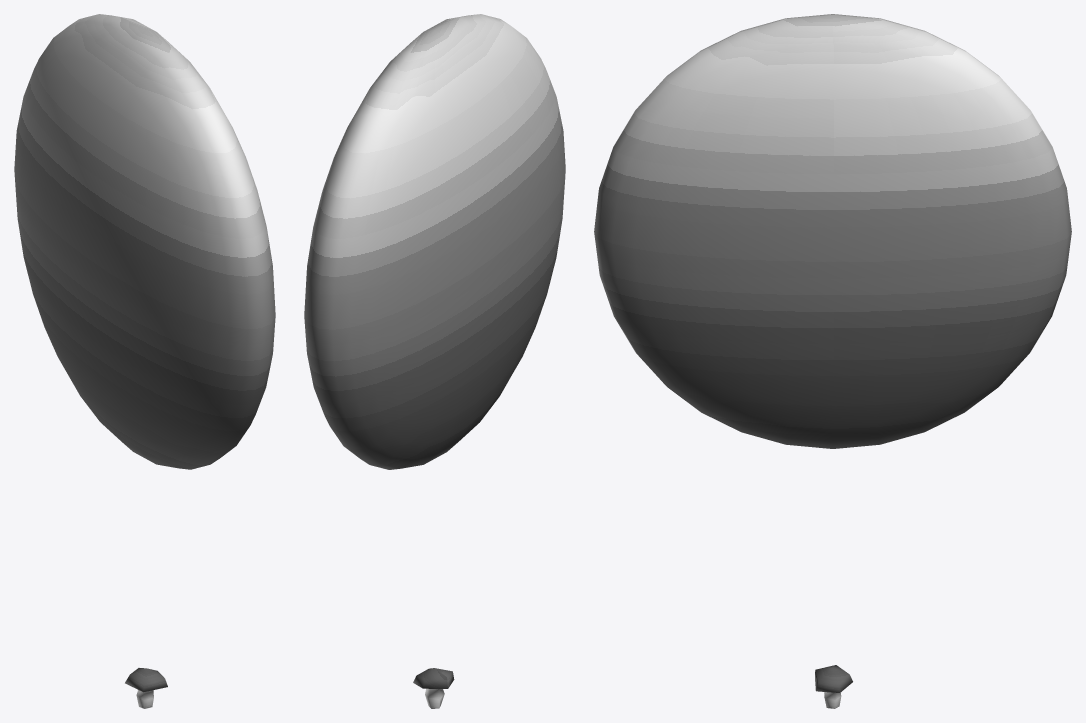
Rendered from GlowingMushroom.fbx.
3 views of the same model, side by side, from view 1: azimuth 30°, elevation 25°; view 2: azimuth 150°, elevation 25°; view 3: azimuth 270°, elevation 25° (orthographic). The views are drawn at different scales.
Visible parts, largest first — view 1: Sphere, Cube; view 2: Sphere, Cube; view 3: Sphere, Cube.
Part boxes in pixels (left/top/right/bottom): Sphere: left=14, top=14, right=275, bottom=469; Cube: left=125, top=668, right=167, bottom=708; Sphere: left=304, top=14, right=565, bottom=469; Cube: left=413, top=668, right=454, bottom=708; Sphere: left=594, top=14, right=1071, bottom=448; Cube: left=815, top=665, right=852, bottom=708.
Bounding box in the file's own units: 5 × 27.26 × 17.09.
1 material, 1 textured.
